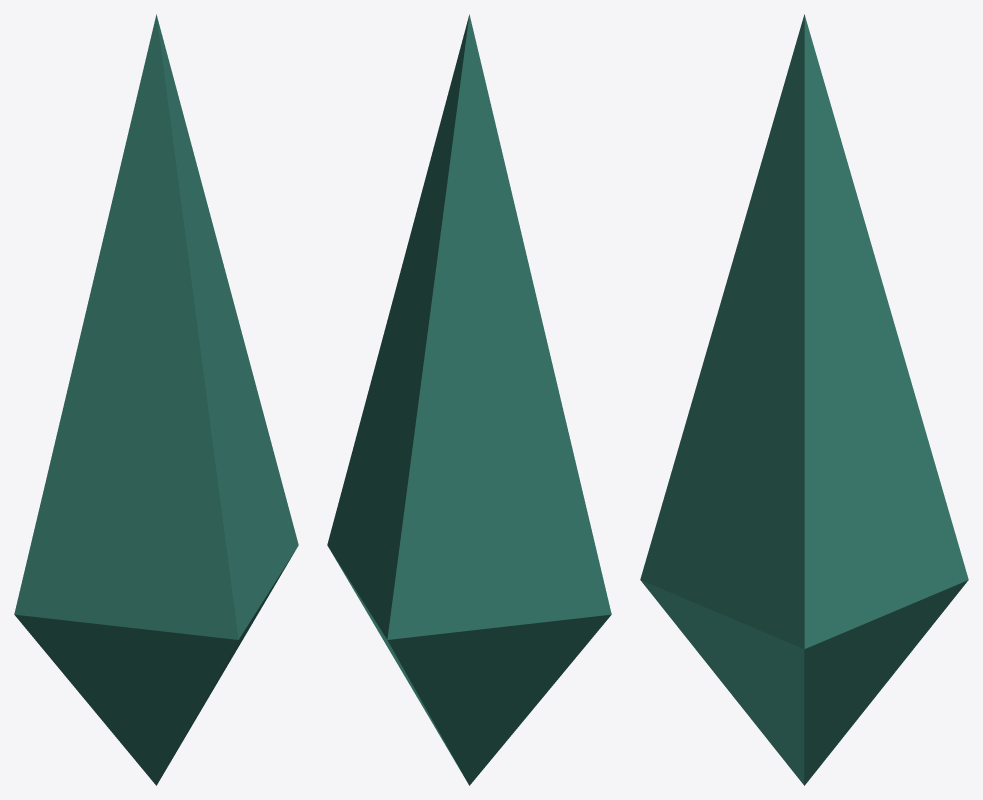
Rendered from AM_Crystal_04.fbx.
The picture shows the model from 3 angles, left to right: view 1: azimuth 30°, elevation 25°; view 2: azimuth 150°, elevation 25°; view 3: azimuth 270°, elevation 25°; orthographic projection.
Visible parts, largest first — view 1: AM_Crystal_04; view 2: AM_Crystal_04; view 3: AM_Crystal_04.
Part boxes in pixels (<box>): AM_Crystal_04: <box>14,14,298,785</box>; AM_Crystal_04: <box>327,14,611,785</box>; AM_Crystal_04: <box>640,14,968,785</box>.
Size of the model in its own units: 3.18 by 3.18 by 8.25.
